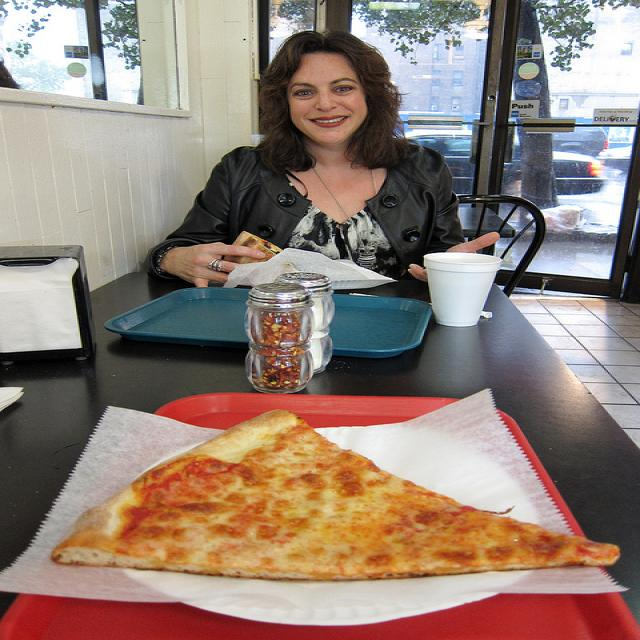Vehicle: (402, 129, 604, 199), (552, 121, 612, 156)
